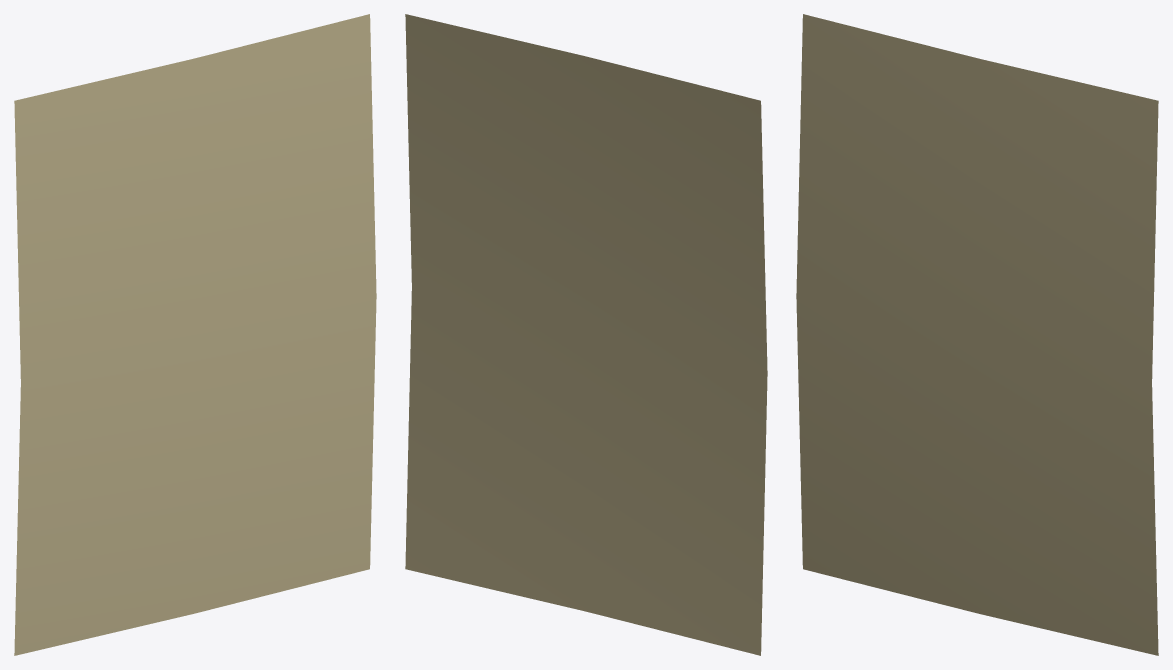
Rendered from SM_Poster_01.fbx.
3 views of the same model, side by side, from view 1: azimuth 30°, elevation 25°; view 2: azimuth 150°, elevation 25°; view 3: azimuth 330°, elevation 25° (orthographic).
Parts seen in each view (by area): view 1: SM_Poster_01; view 2: SM_Poster_01; view 3: SM_Poster_01.
Boxes of the visible parts, box(x1,y1,x2,y2) form: SM_Poster_01: box(14, 14, 376, 655); SM_Poster_01: box(405, 14, 767, 655); SM_Poster_01: box(796, 14, 1158, 655).
Size of the model in its own units: 61 by 91 by 2.44.
